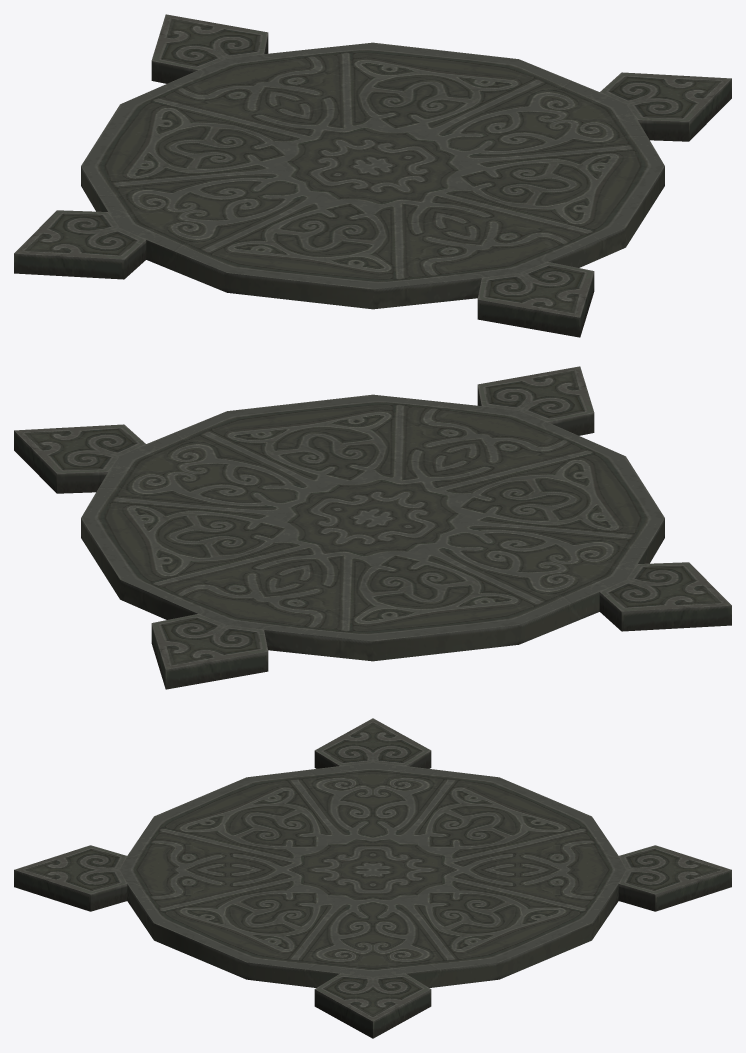
The picture shows the model from 3 angles, top to bottom: view 1: azimuth 30°, elevation 25°; view 2: azimuth 150°, elevation 25°; view 3: azimuth 270°, elevation 25°; orthographic projection. The views are drawn at different scales.
Visible parts, largest first — view 1: environment_common_dibiaoshipan_001_a; view 2: environment_common_dibiaoshipan_001_a; view 3: environment_common_dibiaoshipan_001_a.
Boxes of the visible parts, x1,y1,x2,y2 form: environment_common_dibiaoshipan_001_a: (14,14,731,337); environment_common_dibiaoshipan_001_a: (14,366,731,689); environment_common_dibiaoshipan_001_a: (14,718,731,1038).
Size of the model in its own units: 521 by 13.81 by 521.
